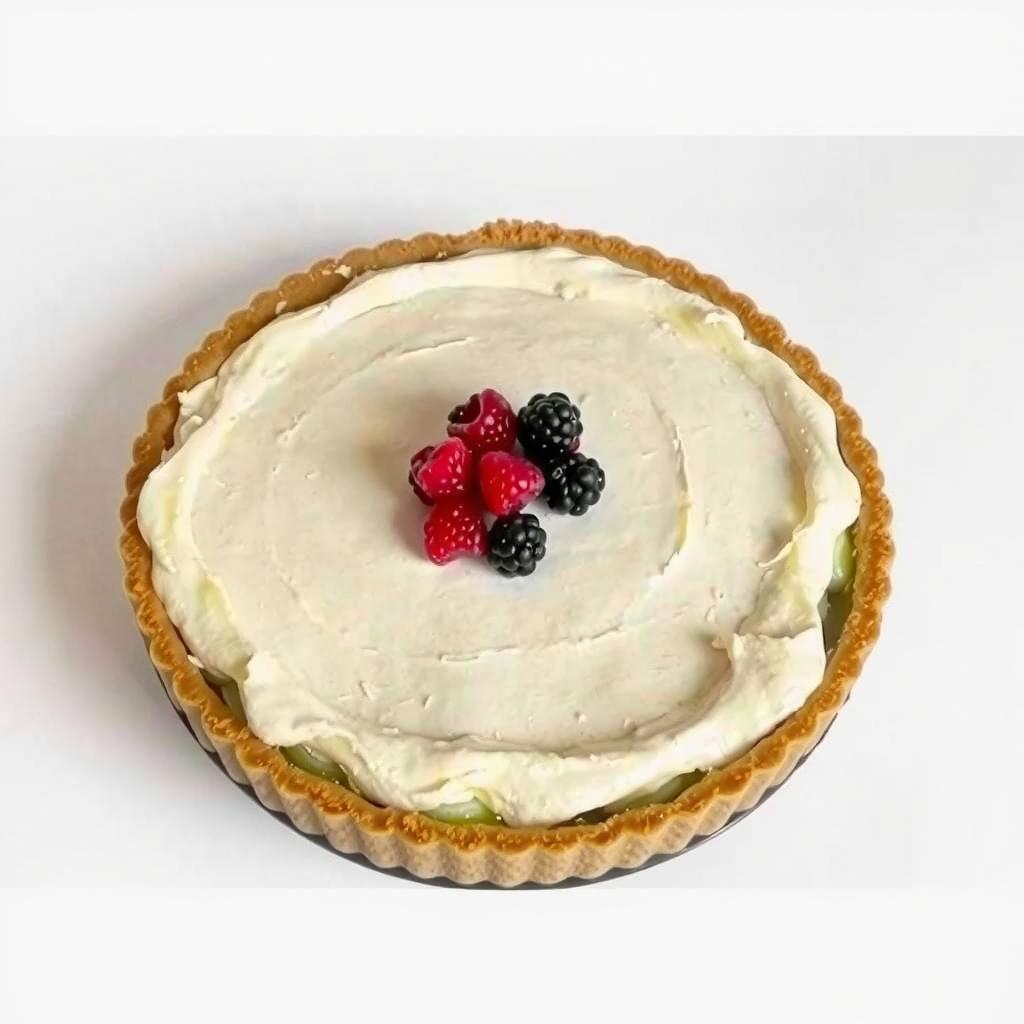cake: (114, 209, 904, 900)
